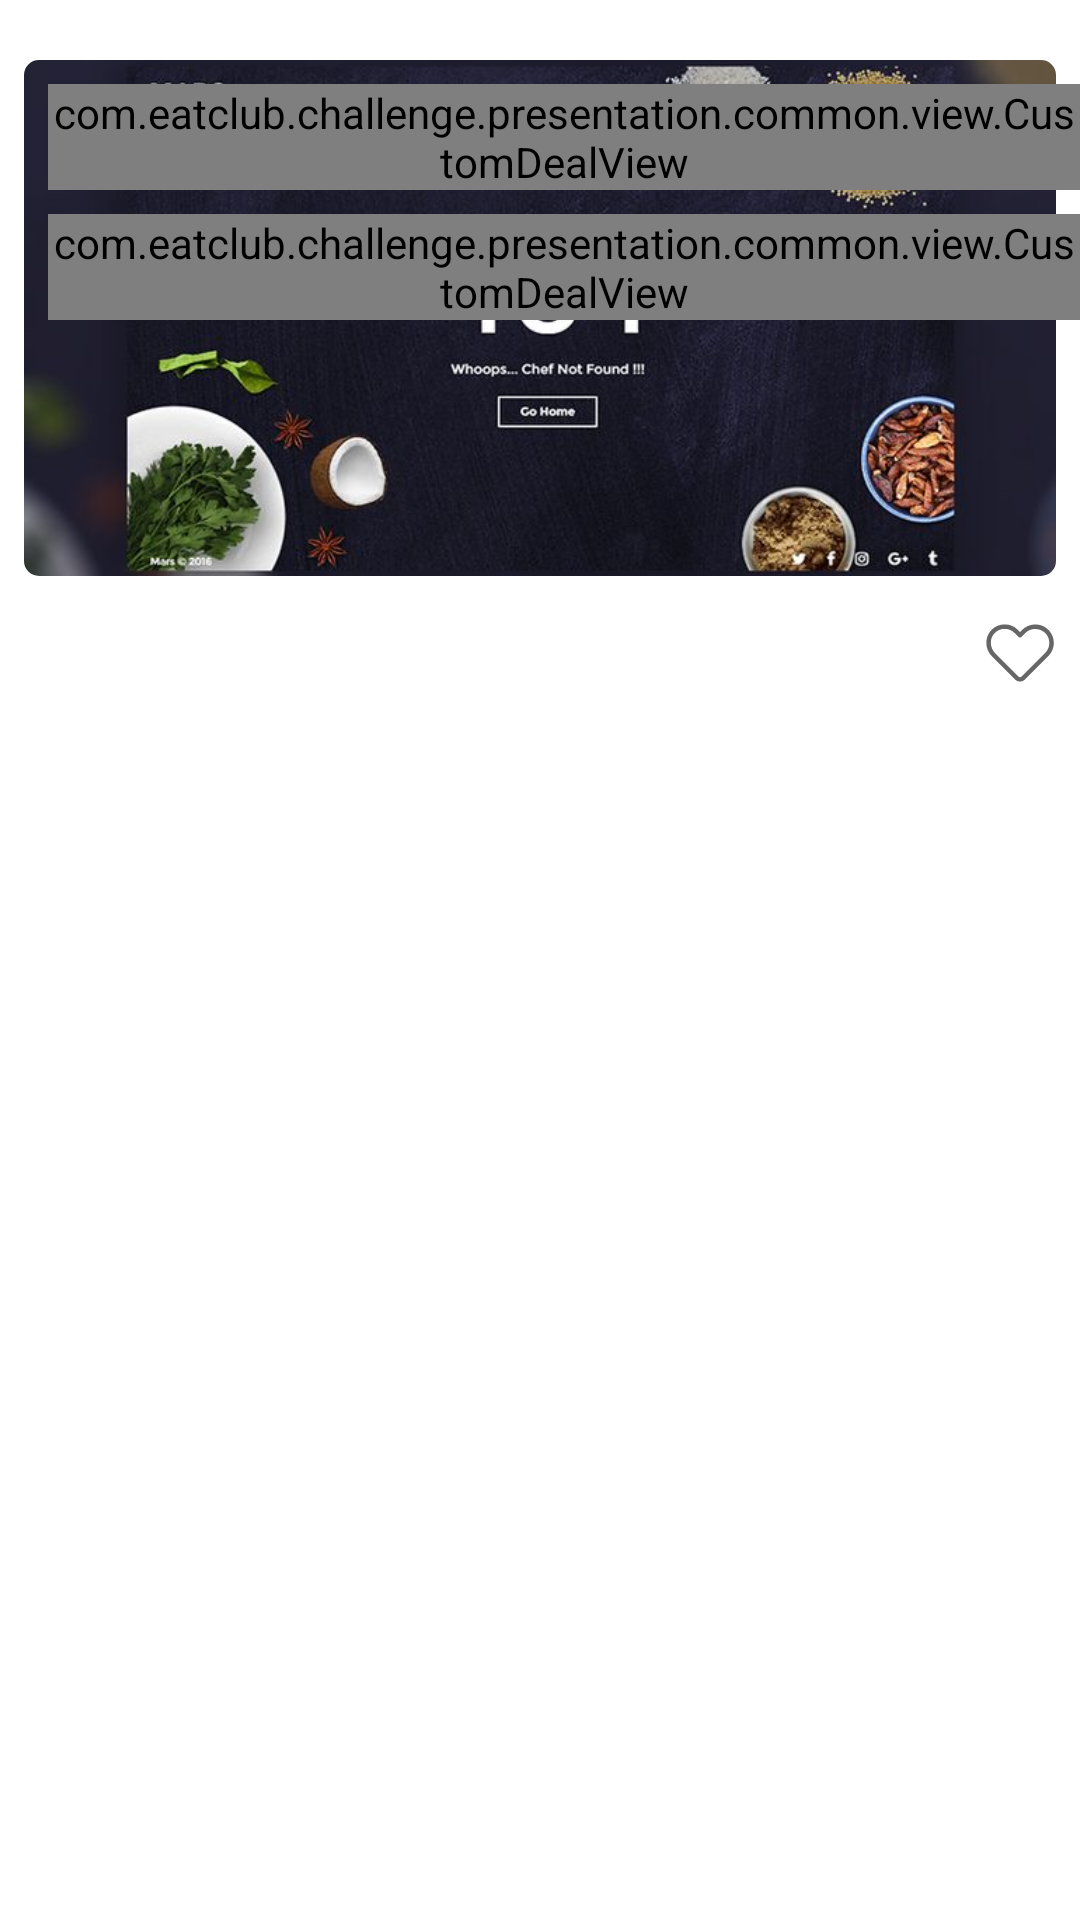

Named icons in this screenshot (1080*1920) and their centers, point (x, y):
icon favorite: point (1020, 653)
